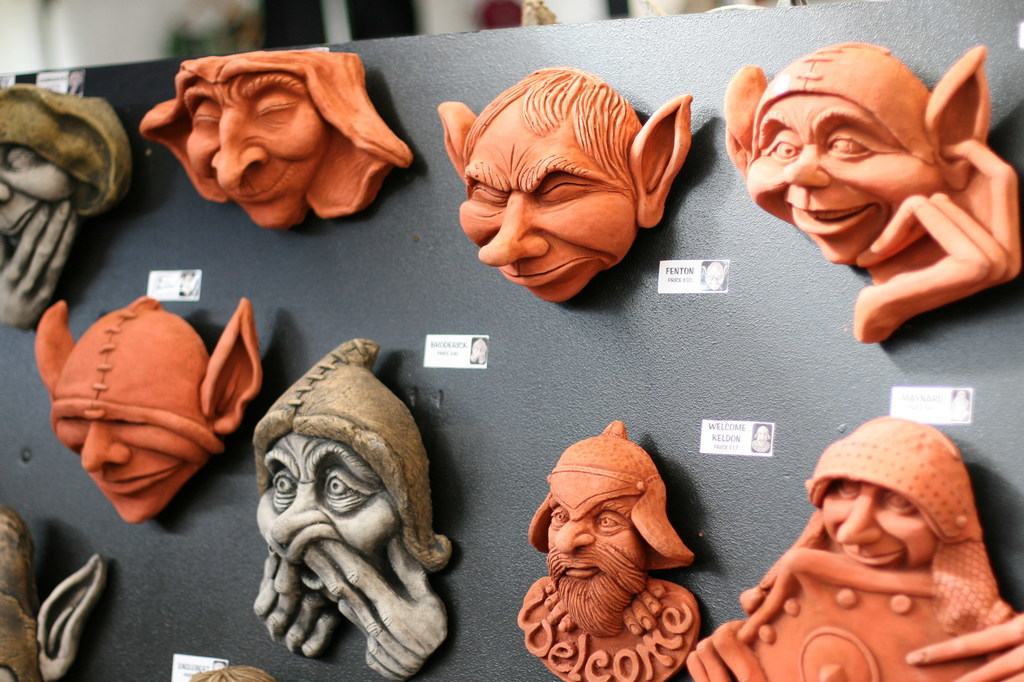face: (450, 114, 641, 303)
